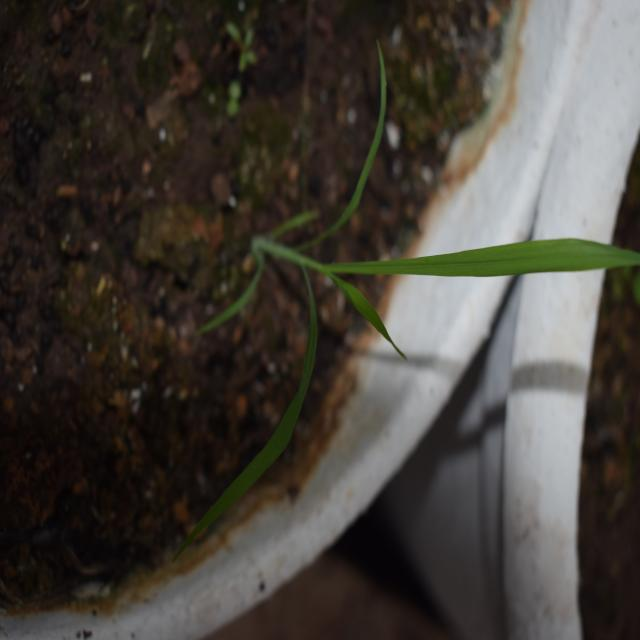barnyard_grass: (227, 127, 621, 469)
